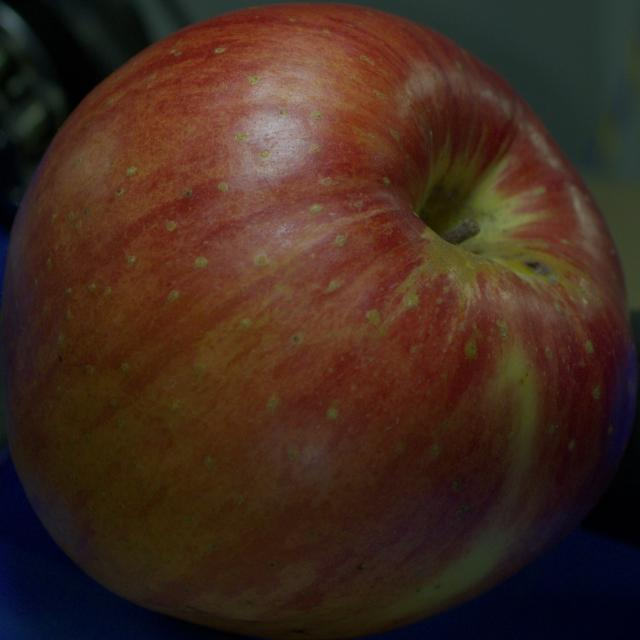apple: (0, 4, 638, 639)
pest: (525, 262, 549, 274)
